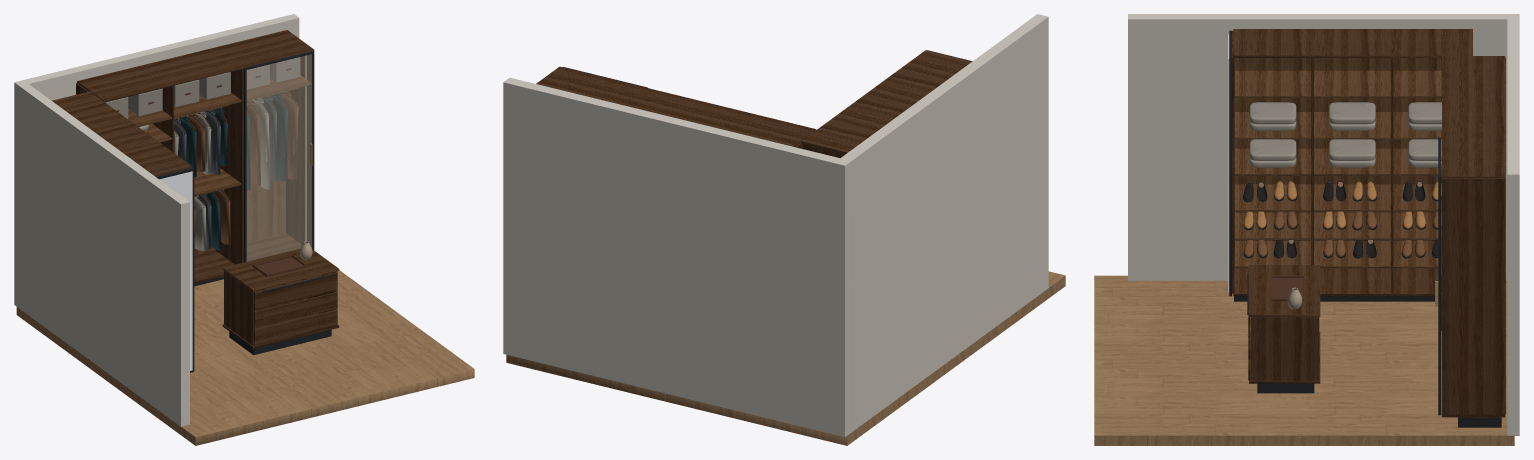
File: closet.glb
3 renders of one model, left to right at view 1: azimuth 30°, elevation 25°; view 2: azimuth 150°, elevation 25°; view 3: azimuth 270°, elevation 25°, orthographic. The views are drawn at different scales.
Visible parts, largest first — view 1: Parede lateral, Piso, Armário lateral • divisória, Porta vidro • painel, Armário lateral • fundo, Caixa organizadora, Camisa pendurada.002, Camisa pendurada.001, Camisa pendurada, Camisa pendurada.003, Armário lateral • rodapé, Porta vidro • montante (+3 smaller); view 2: Parede lateral, Armário lateral • divisória, Piso; view 3: Piso, Armário lateral • divisória, Parede lateral, Armário lateral • fundo, Caixa organizadora, Armário lateral • rodapé, Sapato • cabedal.004, Sapato • cabedal, Sapato • cabedal.002, Sapato • sola, Porta vidro • montante, Pega caixa.
Boxes of the visible parts, x1,y1,x2,y2 form: Parede lateral: (14, 14, 299, 426); Piso: (16, 270, 474, 445); Armário lateral • divisória: (52, 30, 339, 348); Porta vidro • painel: (247, 54, 311, 261); Armário lateral • fundo: (128, 75, 311, 255); Caixa organizadora: (105, 57, 300, 130); Camisa pendurada.002: (186, 91, 298, 247); Camisa pendurada.001: (178, 93, 287, 250); Camisa pendurada: (174, 96, 277, 249); Camisa pendurada.003: (174, 98, 270, 251); Armário lateral • rodapé: (156, 56, 331, 372); Porta vidro • montante: (243, 51, 314, 262); Parede lateral: (503, 14, 1048, 437); Armário lateral • divisória: (536, 50, 971, 157); Piso: (506, 271, 1065, 445); Piso: (1094, 275, 1514, 445); Armário lateral • divisória: (1232, 29, 1505, 417); Parede lateral: (1128, 14, 1519, 435); Armário lateral • fundo: (1234, 58, 1505, 414); Caixa organizadora: (1249, 102, 1441, 167); Armário lateral • rodapé: (1229, 30, 1501, 427); Sapato • cabedal.004: (1243, 181, 1441, 228); Sapato • cabedal: (1244, 211, 1441, 256); Sapato • cabedal.002: (1243, 181, 1438, 256); Sapato • sola: (1243, 187, 1441, 258); Porta vidro • montante: (1438, 137, 1441, 415); Pega caixa: (1271, 275, 1304, 300).
Size of the model in its own units: 3.66 by 2.89 by 4.1.
Materials: 20 (7 with a texture image).
